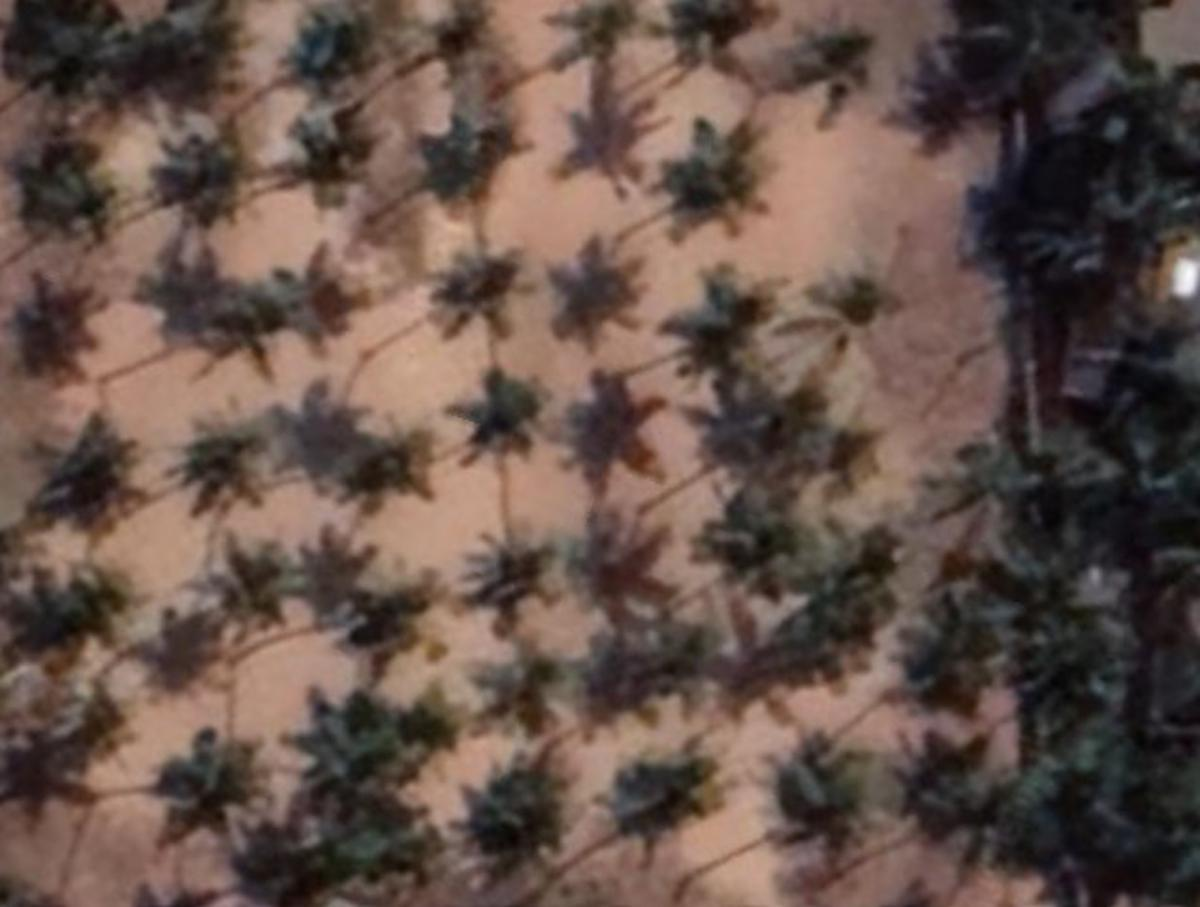coconut: (280, 688, 428, 795), (596, 743, 724, 861), (573, 607, 680, 743), (7, 276, 112, 412), (891, 604, 1006, 718), (152, 731, 263, 848), (769, 743, 882, 856), (338, 577, 453, 688), (33, 427, 141, 545), (667, 265, 778, 376), (188, 532, 295, 643), (925, 762, 1028, 875), (458, 760, 562, 871), (410, 105, 511, 216), (652, 126, 771, 220), (453, 530, 564, 630), (771, 24, 874, 129), (340, 425, 449, 519), (464, 641, 562, 741), (274, 16, 383, 105), (692, 485, 786, 588), (289, 112, 385, 210), (148, 141, 246, 233), (425, 244, 522, 336), (458, 370, 545, 464), (169, 425, 263, 511), (186, 287, 276, 376), (33, 566, 126, 652)
